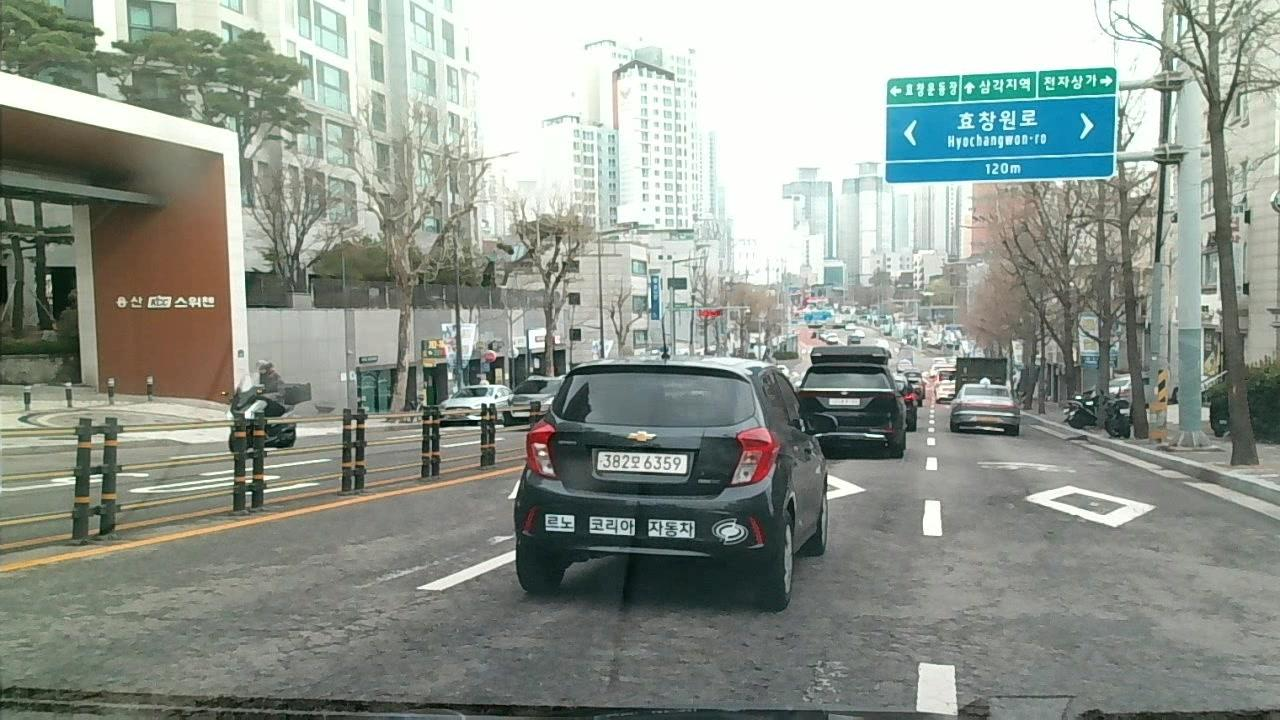banner: (128, 604, 988, 720)
